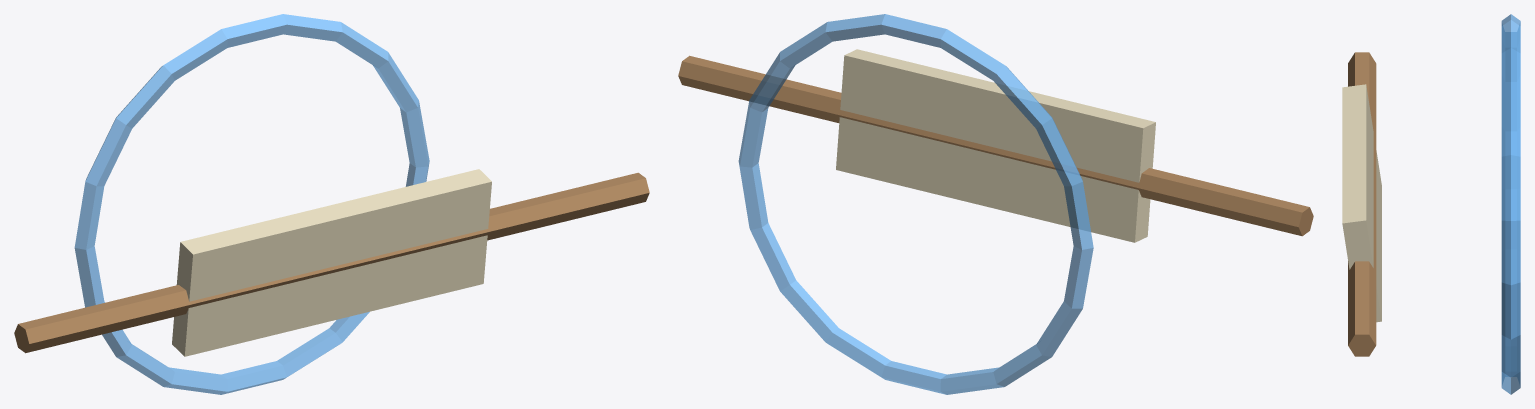
File: recipe_scroll_pickup.glb
3 views of the same model, side by side, from view 1: azimuth 30°, elevation 25°; view 2: azimuth 150°, elevation 25°; view 3: azimuth 270°, elevation 25° (orthographic). The views are drawn at different scales.
Visible parts, largest first — view 1: scroll, blueprint_ring, rod_l, rod_r; view 2: scroll, blueprint_ring, rod_l, rod_r; view 3: blueprint_ring, scroll, rod_r, rod_l.
Part boxes in pixels (x1,y1,x2,y2): scroll: (172, 169, 491, 356); blueprint_ring: (74, 14, 429, 394); rod_l: (14, 259, 365, 353); rod_r: (312, 172, 649, 273); scroll: (836, 49, 1155, 242); blueprint_ring: (738, 14, 1093, 394); rod_l: (962, 140, 1313, 236); rod_r: (678, 55, 1015, 159); blueprint_ring: (1501, 14, 1520, 394); scroll: (1342, 84, 1381, 322); rod_r: (1348, 189, 1376, 356); rod_l: (1348, 52, 1376, 191).
Bounding box in the file's own units: 1.66 × 0.9356 × 0.443.
